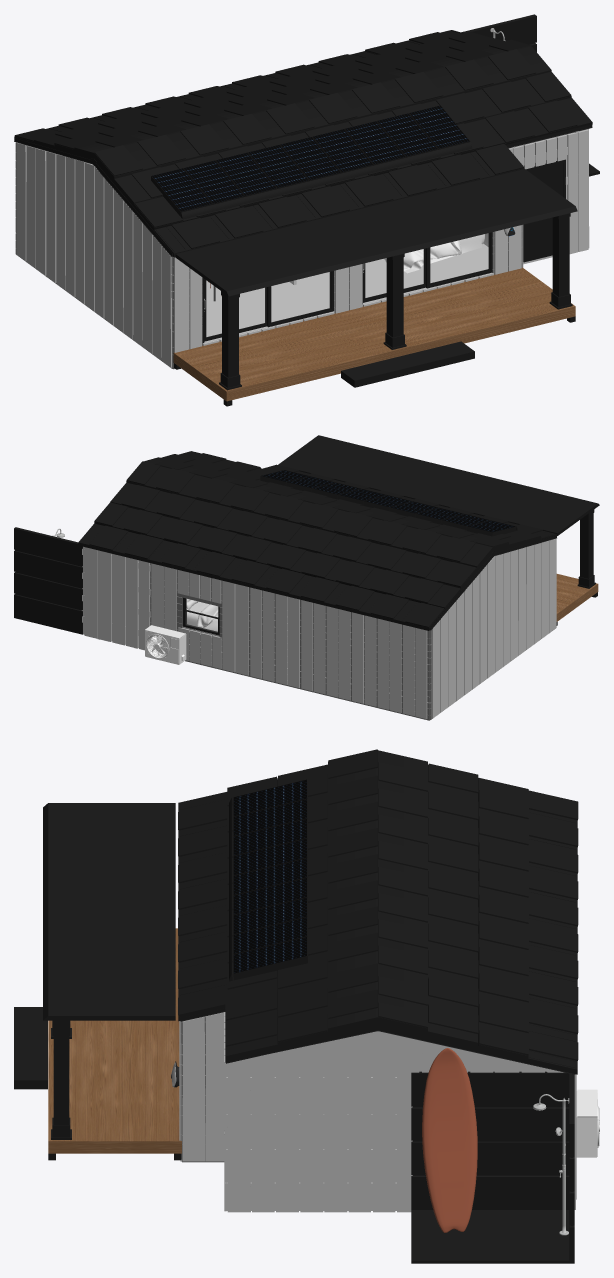
Rendered from 800Sqft.glb.
The picture shows the model from 3 angles, top to bottom: view 1: azimuth 30°, elevation 25°; view 2: azimuth 150°, elevation 25°; view 3: azimuth 270°, elevation 25°; orthographic projection. The views are drawn at different scales.
Visible parts, largest first — view 1: Asphalt_Roof, Vertical_Wall_Pattern, Wooden_Base, Frontal_Roof, Asphalt_Roof_For_Side_Room, House_Base, Pillars, Vertical_Wall_Pattern_For_Side_Room, Wooden_Step, Solar_Holder, Glass01, pasted__Glass01 (+20 smaller); view 2: Vertical_Wall_Pattern, Asphalt_Roof, Frontal_Roof, Asphalt_Roof_For_Side_Room, Shower_BAse, Vertical_Wall_Pattern_For_Side_Room, Horizontal_Wall_Pattern, polySurface7084, Wooden_Base, Pillars, Ac_Outer_Shield, polySurface7074 (+5 smaller); view 3: Asphalt_Roof, Vertical_Wall_Pattern_For_Side_Room, Frontal_Roof, Shower_BAse, Asphalt_Roof_For_Side_Room, Wooden_Base, Board, Vertical_Wall_Pattern, Wooden_Step, Side_Room_Wall, Pillars, polySurface7084 (+14 smaller).
Boxes of the visible parts, bbox=[...] form: Asphalt_Roof: bbox=[14, 51, 524, 257]; Vertical_Wall_Pattern: bbox=[16, 142, 523, 367]; Wooden_Base: bbox=[173, 267, 575, 401]; Frontal_Roof: bbox=[175, 169, 577, 296]; Asphalt_Roof_For_Side_Room: bbox=[365, 30, 592, 148]; House_Base: bbox=[206, 243, 488, 336]; Pillars: bbox=[219, 213, 572, 390]; Vertical_Wall_Pattern_For_Side_Room: bbox=[509, 129, 589, 254]; Wooden_Step: bbox=[341, 341, 474, 387]; Solar_Holder: bbox=[181, 142, 472, 219]; Glass01: bbox=[271, 272, 329, 321]; pasted__Glass01: bbox=[430, 233, 488, 282]; Vertical_Wall_Pattern: bbox=[151, 538, 556, 719]; Asphalt_Roof: bbox=[148, 464, 556, 630]; Frontal_Roof: bbox=[278, 435, 599, 535]; Asphalt_Roof_For_Side_Room: bbox=[78, 451, 261, 562]; Shower_BAse: bbox=[14, 527, 82, 634]; Vertical_Wall_Pattern_For_Side_Room: bbox=[81, 547, 149, 650]; Horizontal_Wall_Pattern: bbox=[150, 563, 479, 720]; polySurface7084: bbox=[260, 473, 516, 536]; Wooden_Base: bbox=[556, 574, 598, 621]; Pillars: bbox=[577, 509, 595, 588]; Ac_Outer_Shield: bbox=[145, 631, 186, 664]; polySurface7074: bbox=[186, 599, 217, 632]; Asphalt_Roof: bbox=[178, 749, 578, 1021]; Vertical_Wall_Pattern_For_Side_Room: bbox=[224, 1012, 575, 1212]; Frontal_Roof: bbox=[43, 803, 175, 1020]; Shower_BAse: bbox=[411, 1071, 574, 1263]; Asphalt_Roof_For_Side_Room: bbox=[225, 963, 578, 1074]; Wooden_Base: bbox=[48, 928, 181, 1153]; Board: bbox=[422, 1048, 477, 1232]; Vertical_Wall_Pattern: bbox=[179, 1012, 224, 1161]; Wooden_Step: bbox=[14, 1007, 47, 1089]; Side_Room_Wall: bbox=[226, 1032, 546, 1210]; Pillars: bbox=[51, 1020, 71, 1139]; polySurface7084: bbox=[233, 779, 307, 980].
Bounding box in the file's own units: 0.1463 × 0.0429 × 0.114.
14 materials, 3 textured.
